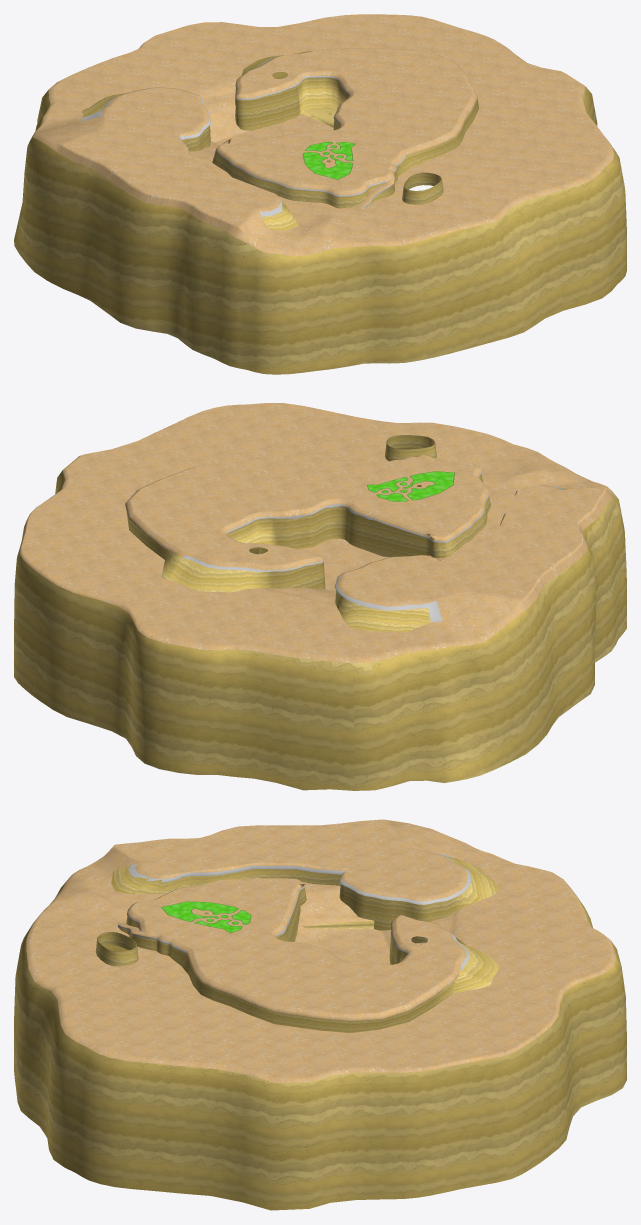
File: sand mesh.fbx
The picture shows the model from 3 angles, top to bottom: view 1: azimuth 30°, elevation 25°; view 2: azimuth 150°, elevation 25°; view 3: azimuth 270°, elevation 25°; orthographic projection. The views are drawn at different scales.
Parts seen in each view (by area): view 1: polySurface143; view 2: polySurface143; view 3: polySurface143.
Part boxes in pixels (x1=…): polySurface143: x1=14, y1=14, x2=626, y2=374; polySurface143: x1=14, y1=403, x2=626, y2=790; polySurface143: x1=14, y1=819, x2=626, y2=1210.
Size of the model in its own units: 6.19 by 1.67 by 6.23.
